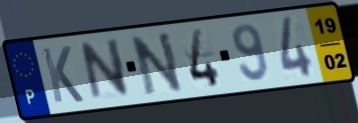4: (278, 15, 316, 80), (187, 27, 222, 89)
9: (230, 22, 271, 83)
K: (39, 44, 87, 106)
N: (127, 29, 186, 98), (78, 36, 133, 104)
